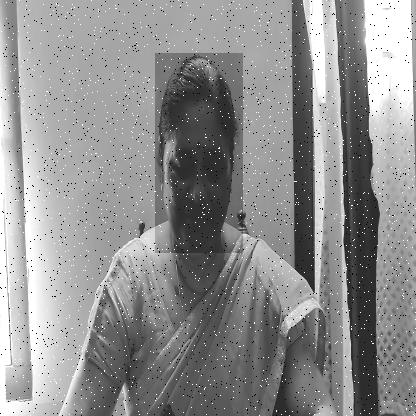Normal: (156, 53, 244, 253)
